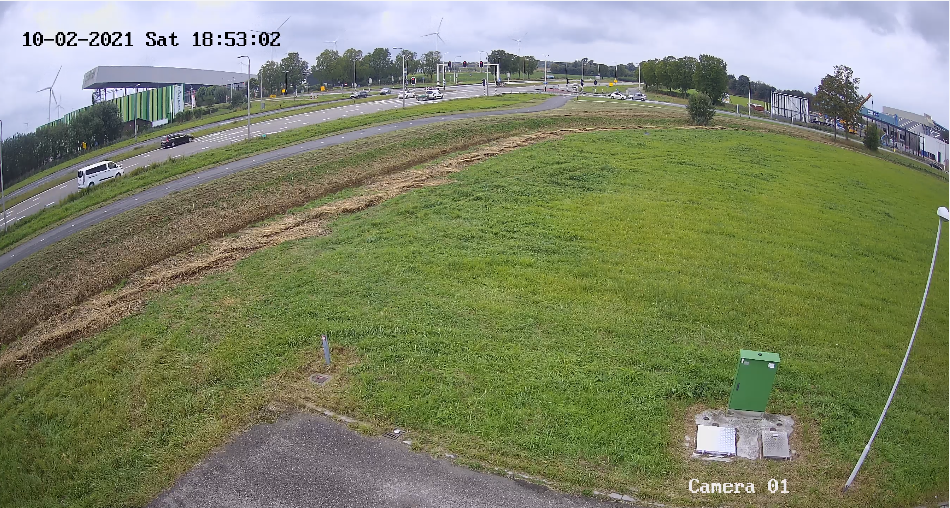werkbus: (73, 149, 128, 195)
